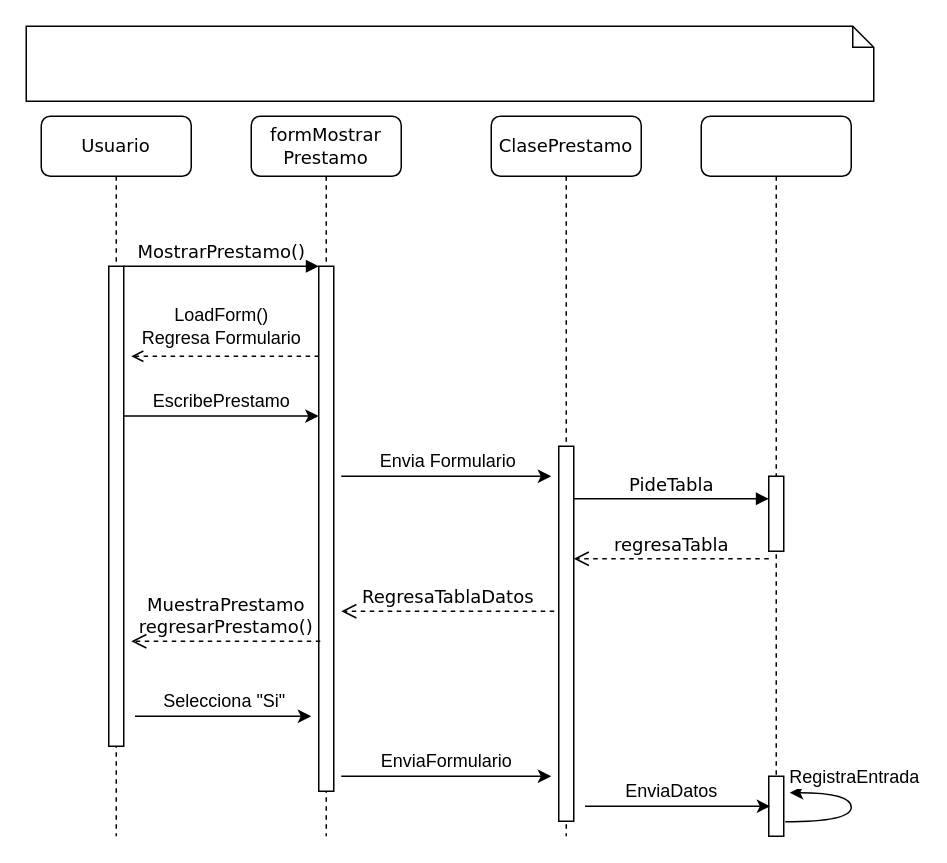
Some shapes in this 947 by 863 pixel diagram are drawn without their labels. Each missing label, with the centre of its shape:
"BaseDatos" goes at (x=775, y=475).
"Diagrama de Secuencia Caso de Uso: Mostrar Prestamo y Regresar Prestamo" goes at (x=449, y=63).
